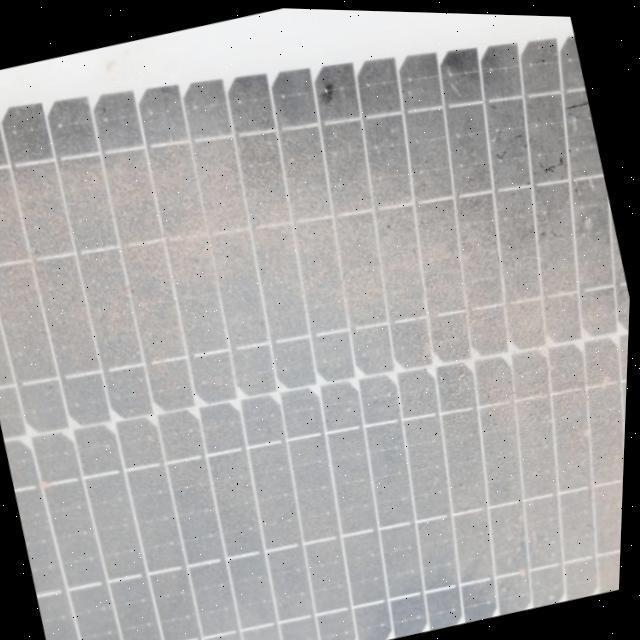Anomaly Solar Panel: (0, 0, 640, 640)
Surface Contaminant: (0, 11, 632, 640)
